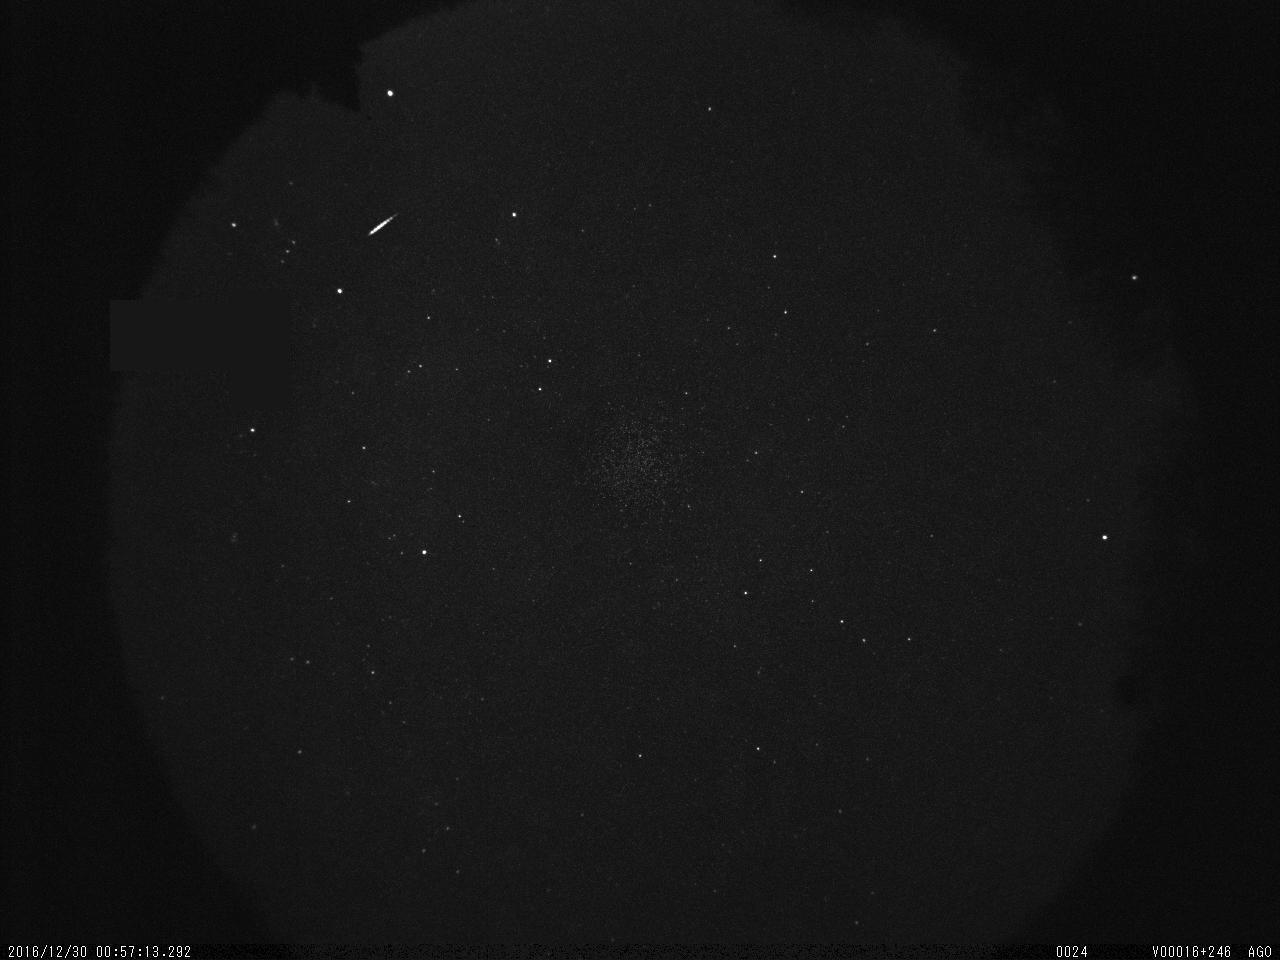meteor: (364, 209, 406, 243)
